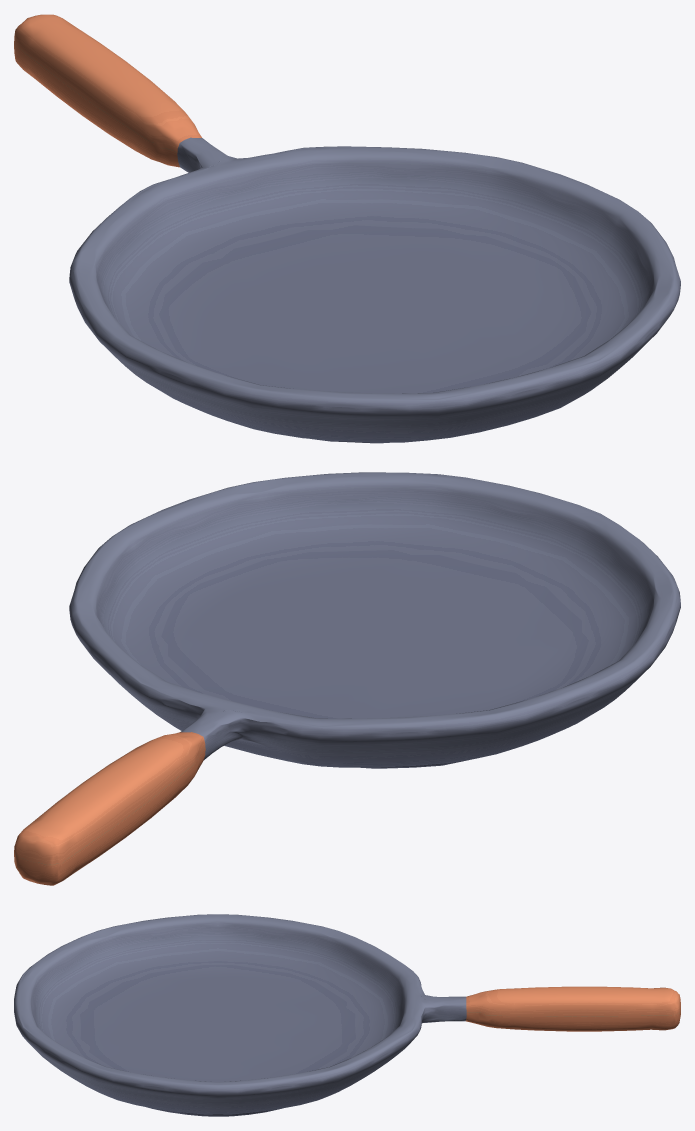
3 renders of one model, top to bottom at view 1: azimuth 30°, elevation 25°; view 2: azimuth 150°, elevation 25°; view 3: azimuth 270°, elevation 25°, orthographic. The views are drawn at different scales.
Size of the model in its own units: 0.6203 by 0.118 by 1.
1 material, 1 textured.
